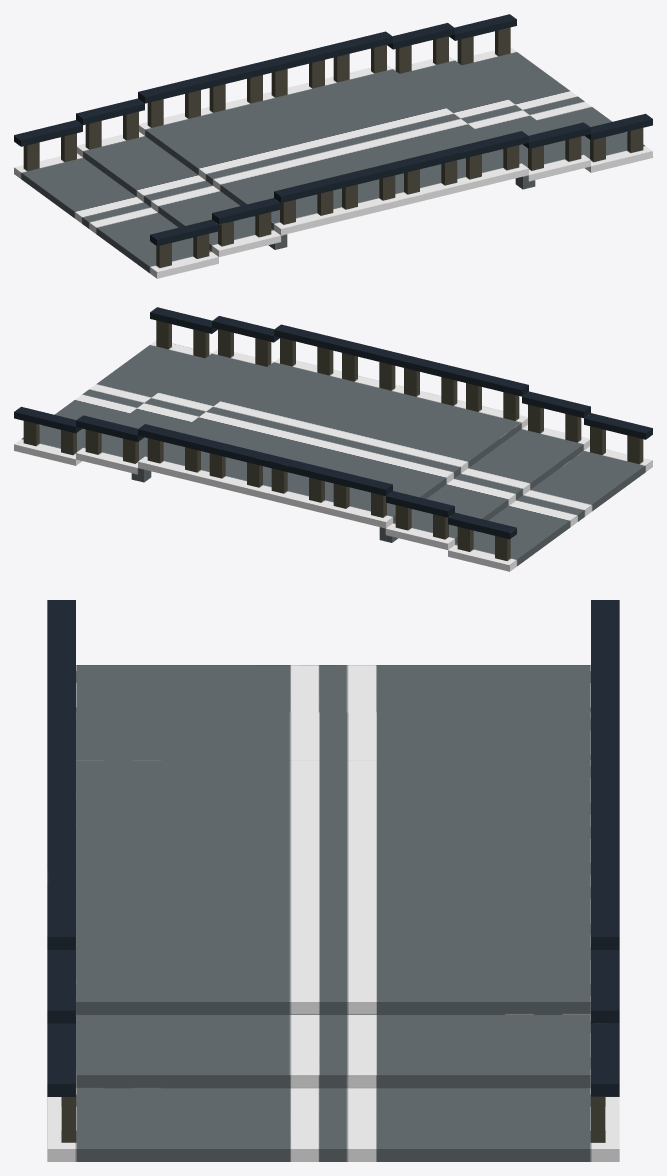
Rendered from river_bridge_overtile.glb.
3 views of the same model, one above another, from view 1: azimuth 30°, elevation 25°; view 2: azimuth 150°, elevation 25°; view 3: azimuth 270°, elevation 25° (orthographic). The views are drawn at different scales.
Visible parts, largest first — view 1: river_bridge_overtile; view 2: river_bridge_overtile; view 3: river_bridge_overtile.
Part boxes in pixels (x1,y1,x2,y2): river_bridge_overtile: (14, 14, 652, 278); river_bridge_overtile: (14, 307, 652, 571); river_bridge_overtile: (47, 600, 619, 1161).
Size of the model in its own units: 8 by 0.8 by 4.
1 material, 1 textured.
